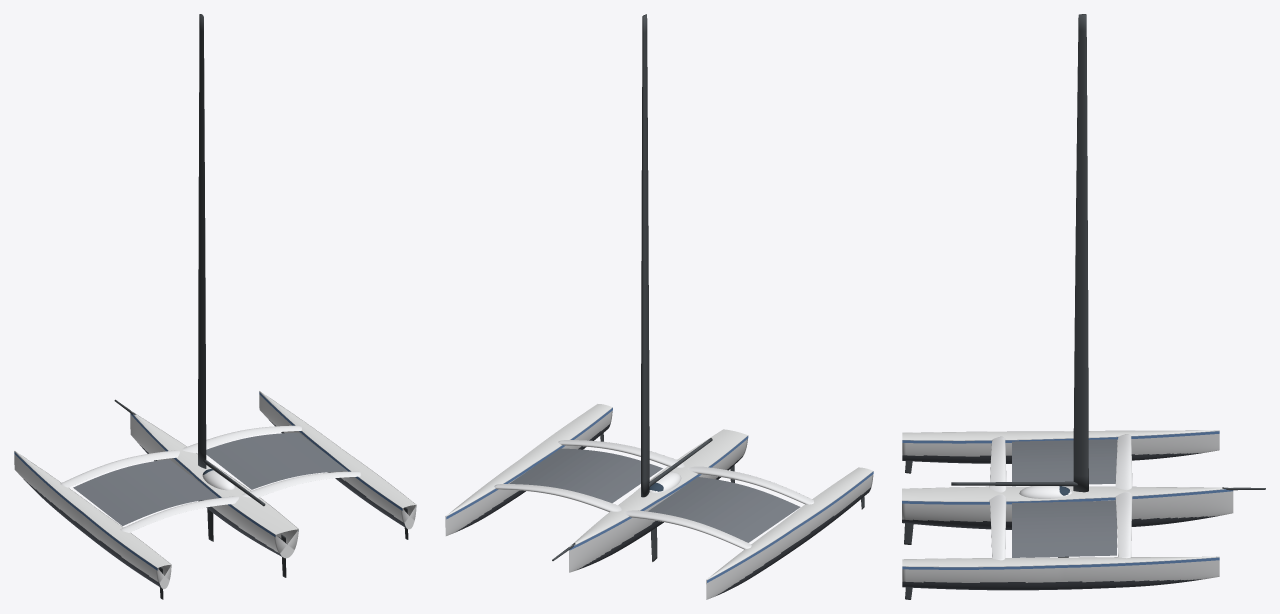
File: groupama_1.glb
The picture shows the model from 3 angles, left to right: view 1: azimuth 30°, elevation 25°; view 2: azimuth 150°, elevation 25°; view 3: azimuth 270°, elevation 25°; orthographic projection. The views are drawn at different scales.
Visible parts, largest first — view 1: filet, filet.001, pivot_mat, centrale_pont, flotteur_coque, centrale_coque, flotteur_pont, flotteur_pont.001, bras.001, bras, flotteur_coque.001, flotteur_fond; view 2: filet, filet.001, pivot_mat, flotteur_coque, centrale_pont, centrale_coque, bras, flotteur_pont, flotteur_pont.001, bras.001, flotteur_coque.001, flotteur_fond; view 3: pivot_mat, filet.001, flotteur_coque.001, centrale_coque, filet, flotteur_coque, centrale_pont, flotteur_pont.001, flotteur_fond.001, flotteur_pont, bras, bras.001 (+7 smaller).
Part boxes in pixels (<box>): filet: <box>73,459,218,526</box>; filet.001: <box>206,432,347,489</box>; pivot_mat: <box>198,14,206,468</box>; centrale_pont: <box>130,410,298,534</box>; flotteur_coque: <box>14,451,171,589</box>; centrale_coque: <box>130,414,298,558</box>; flotteur_pont: <box>14,451,170,567</box>; flotteur_pont.001: <box>259,391,415,508</box>; bras.001: <box>120,471,360,532</box>; bras: <box>60,425,301,487</box>; flotteur_coque.001: <box>259,392,416,529</box>; flotteur_fond: <box>23,479,161,587</box>; filet: <box>648,477,800,542</box>; filet.001: <box>509,448,662,503</box>; pivot_mat: <box>641,14,649,497</box>; flotteur_coque: <box>706,467,873,599</box>; centrale_pont: <box>569,429,747,546</box>; centrale_coque: <box>569,429,747,572</box>; bras: <box>494,484,751,549</box>; flotteur_pont: <box>706,467,872,579</box>; flotteur_pont.001: <box>445,404,612,516</box>; bras.001: <box>558,440,813,504</box>; flotteur_coque.001: <box>445,404,612,535</box>; flotteur_fond: <box>716,487,871,595</box>; pivot_mat: <box>1073,14,1088,492</box>; filet.001: <box>1012,500,1116,557</box>; flotteur_coque.001: <box>902,557,1219,582</box>; centrale_coque: <box>902,486,1233,521</box>; filet: <box>1012,439,1116,486</box>; flotteur_coque: <box>902,430,1219,456</box>; centrale_pont: <box>902,486,1233,501</box>; flotteur_pont.001: <box>902,556,1219,566</box>; flotteur_fond.001: <box>902,579,1201,590</box>; flotteur_pont: <box>902,430,1219,440</box>; bras: <box>1115,434,1132,558</box>; bras.001: <box>989,436,1006,560</box>.
Size of the model in its own units: 30.9 by 58.44 by 35.15.
